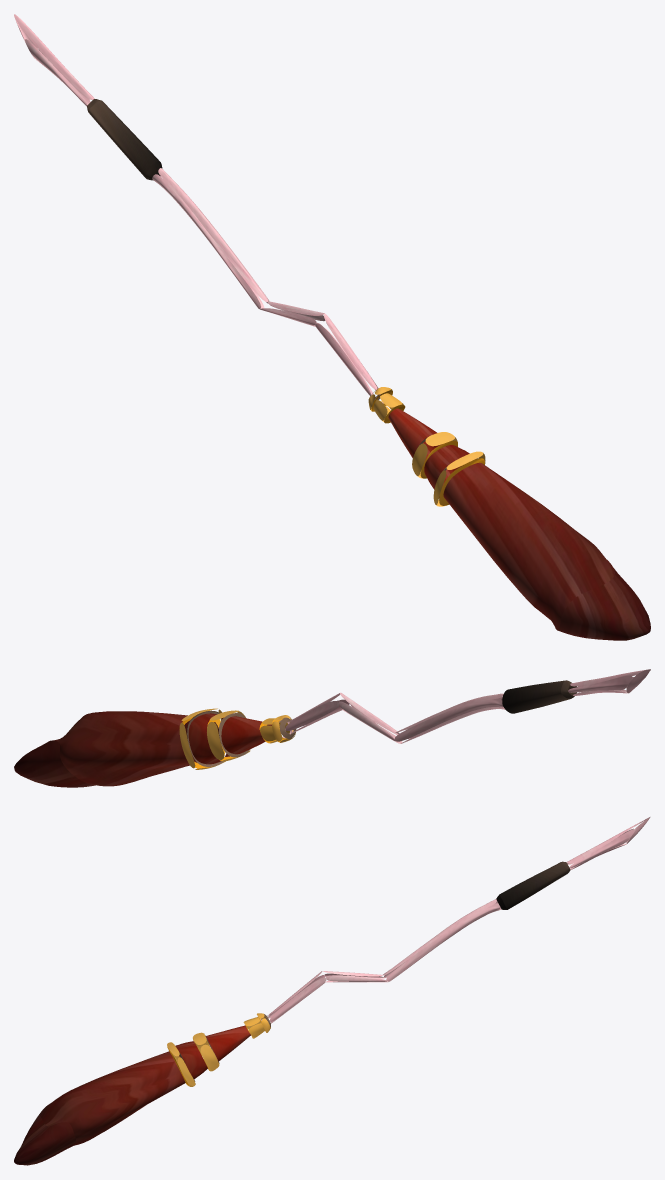
The model's file is pinkBirch.glb.
3 renders of one model, top to bottom at view 1: azimuth 30°, elevation 25°; view 2: azimuth 210°, elevation 25°; view 3: azimuth 270°, elevation 25°, orthographic. The views are drawn at different scales.
Visible parts, largest first — view 1: MainStick; view 2: MainStick; view 3: MainStick.
Boxes of the visible parts, x1,y1,x2,y2 form: MainStick: (14,14,650,640); MainStick: (14,669,650,787); MainStick: (14,817,650,1165).
Bounding box in the file's own units: 4.77 × 7.8 × 16.2.
1 material, 1 textured.
